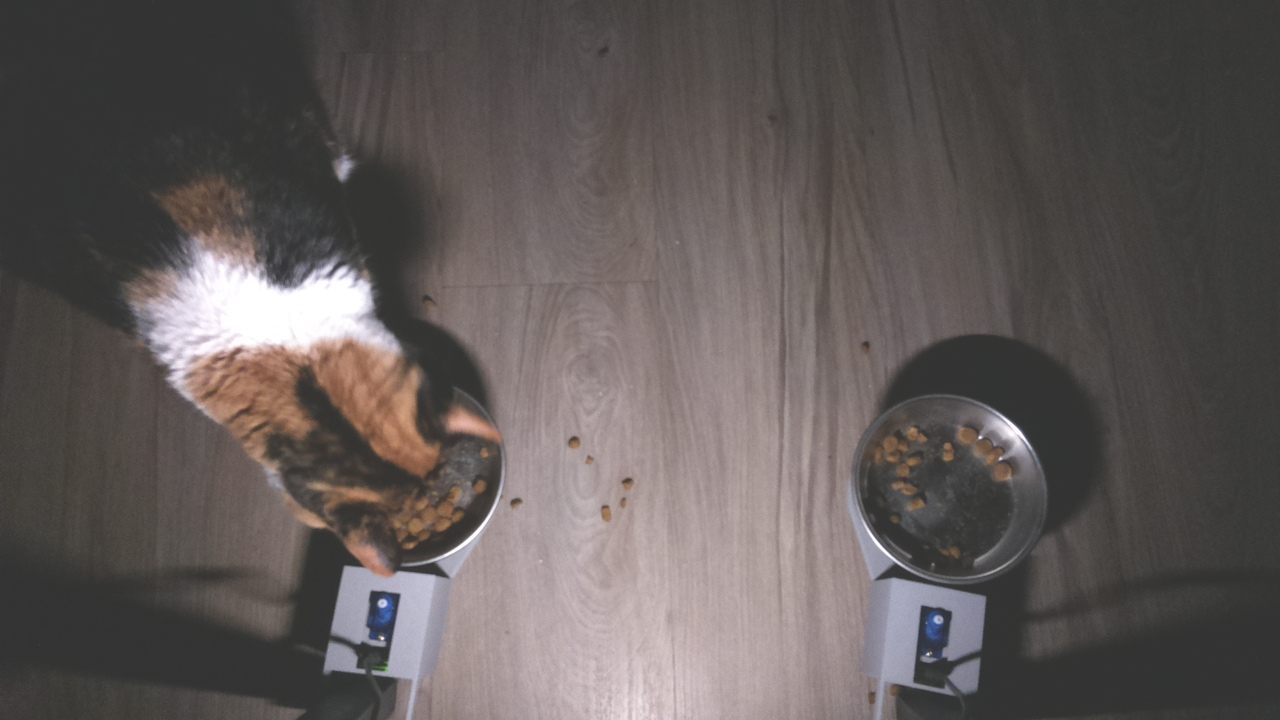bella_eating: (232, 270, 528, 582)
open_bowl: (850, 391, 1054, 590)
